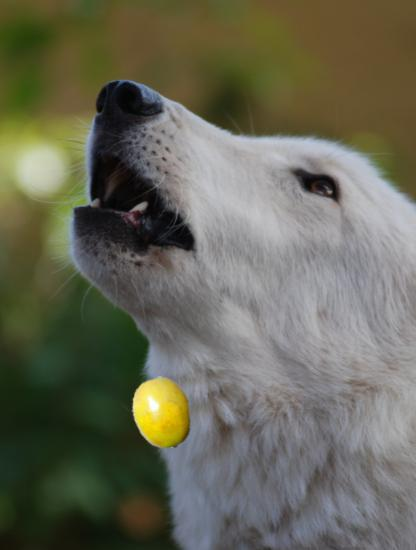Maracuja: (126, 376, 200, 450)
